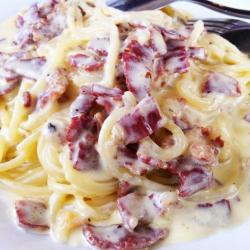carbonara_pasta: (1, 4, 250, 232)
